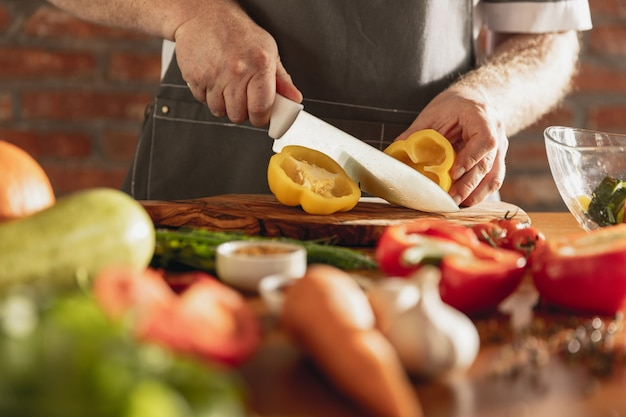knife: (269, 91, 460, 214)
